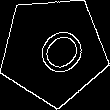O_SW: (21, 18, 86, 83)
